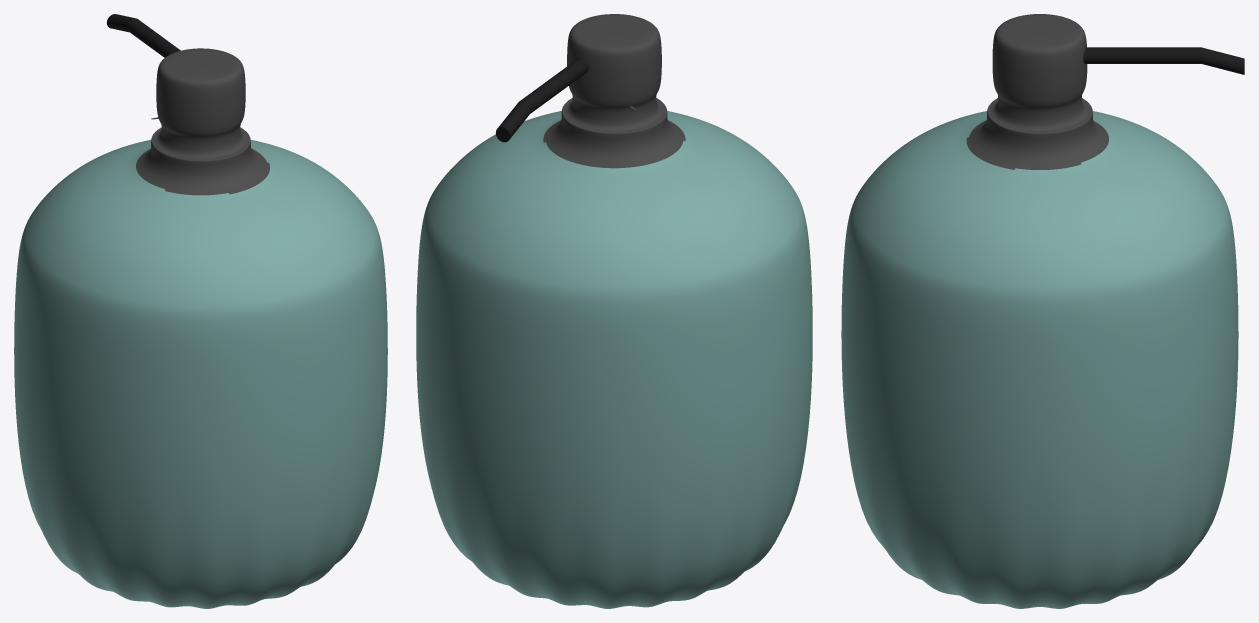
The model's file is Soap Bottle.fbx.
The picture shows the model from 3 angles, left to right: view 1: azimuth 30°, elevation 25°; view 2: azimuth 150°, elevation 25°; view 3: azimuth 270°, elevation 25°; orthographic projection. The views are drawn at different scales.
Parts seen in each view (by area): view 1: pCylinder70, pCylinder71; view 2: pCylinder70, pCylinder71; view 3: pCylinder70, pCylinder71.
Part boxes in pixels (x1,y1,x2,y2): pCylinder70: (14,48,387,608); pCylinder71: (107,14,180,57); pCylinder70: (416,14,812,608); pCylinder71: (496,57,588,142); pCylinder70: (841,14,1238,608); pCylinder71: (1083,47,1244,74).
Size of the model in its own units: 0.3976 by 0.5889 by 0.4036.
